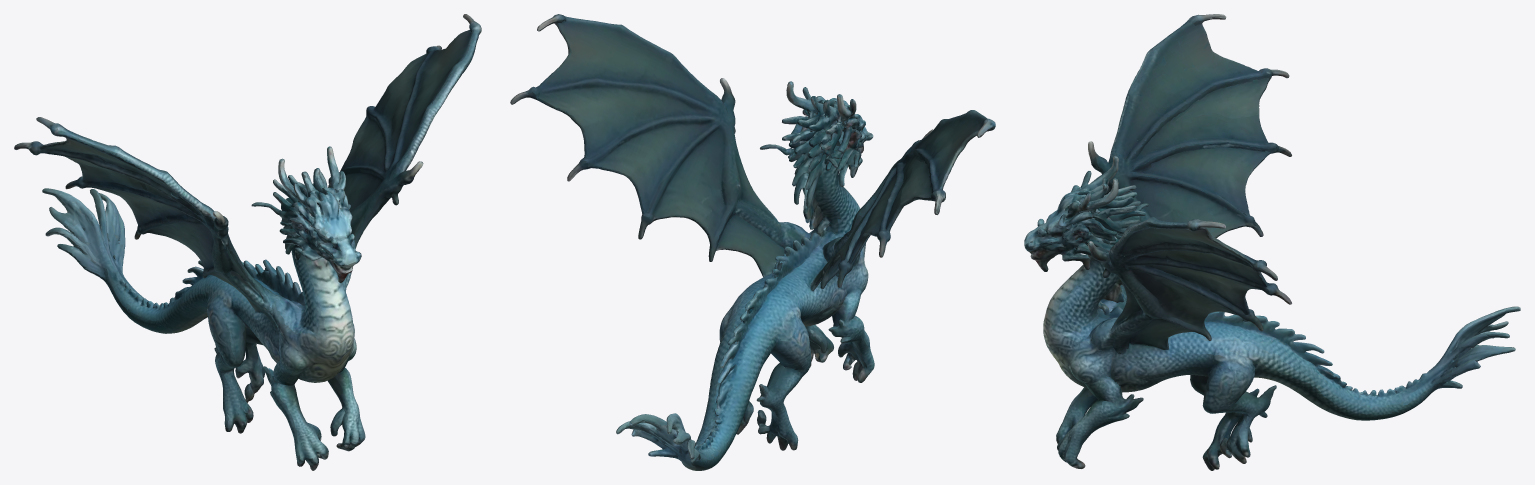
Rendered from yinglong.glb.
The picture shows the model from 3 angles, left to right: view 1: azimuth 30°, elevation 25°; view 2: azimuth 150°, elevation 25°; view 3: azimuth 270°, elevation 25°; orthographic projection. The views are drawn at different scales.
Parts seen in each view (by area): view 1: geometry_0; view 2: geometry_0; view 3: geometry_0.
Boxes of the visible parts, x1=… form: geometry_0: x1=14, y1=14, x2=481, y2=470; geometry_0: x1=510, y1=14, x2=995, y2=470; geometry_0: x1=1024, y1=14, x2=1520, y2=470.
Size of the model in its own units: 0.35 by 0.2813 by 0.3497.
1 material, 1 textured.
